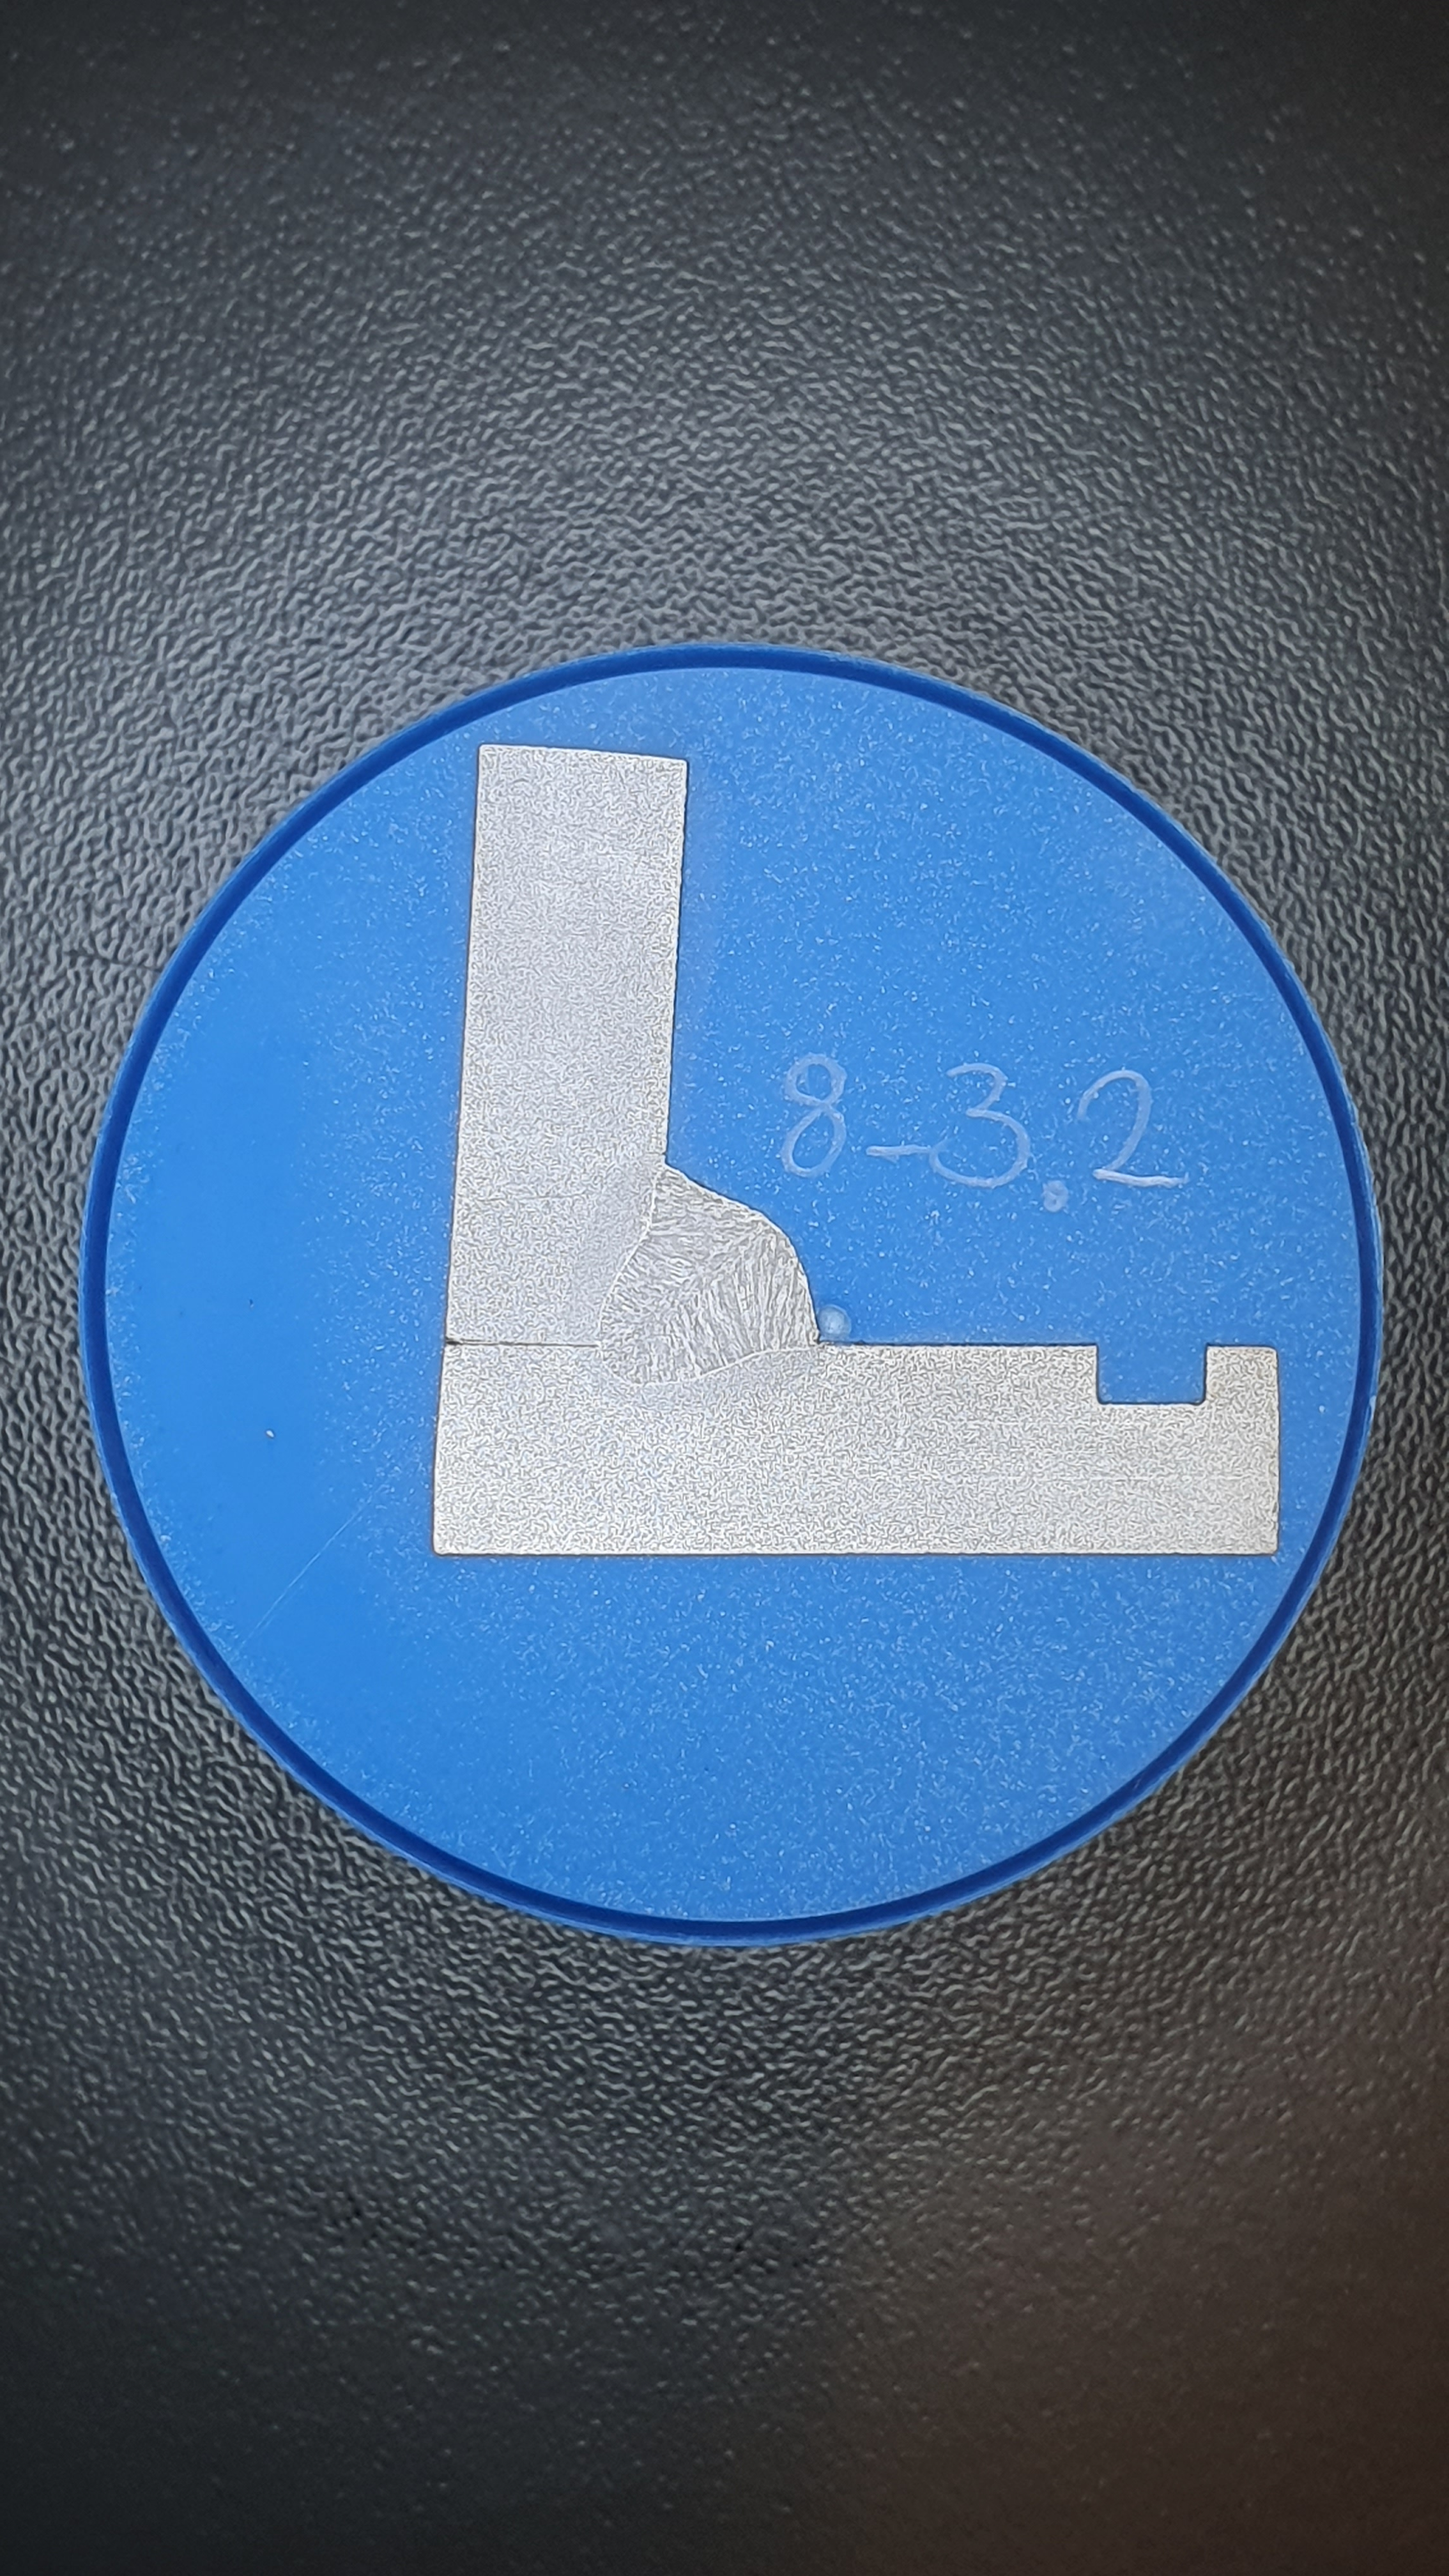Fusion: (599, 1164, 820, 1386)
Hintergrund: (107, 667, 1356, 1922)
Metall: (432, 744, 1280, 1556)
Nebenbereich: (564, 1153, 822, 1413)
